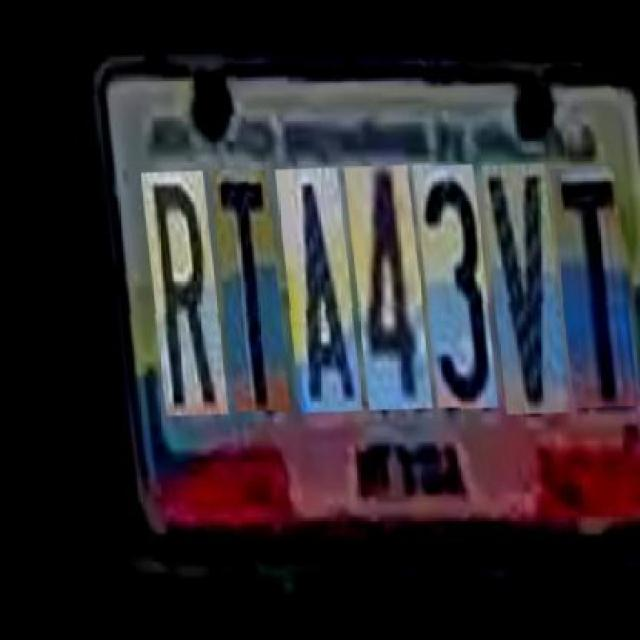3: (407, 164, 488, 408)
4: (339, 166, 423, 411)
a: (270, 169, 352, 413)
r: (136, 172, 218, 417)
t: (543, 167, 628, 408), (204, 170, 281, 413)
v: (475, 163, 560, 414)
